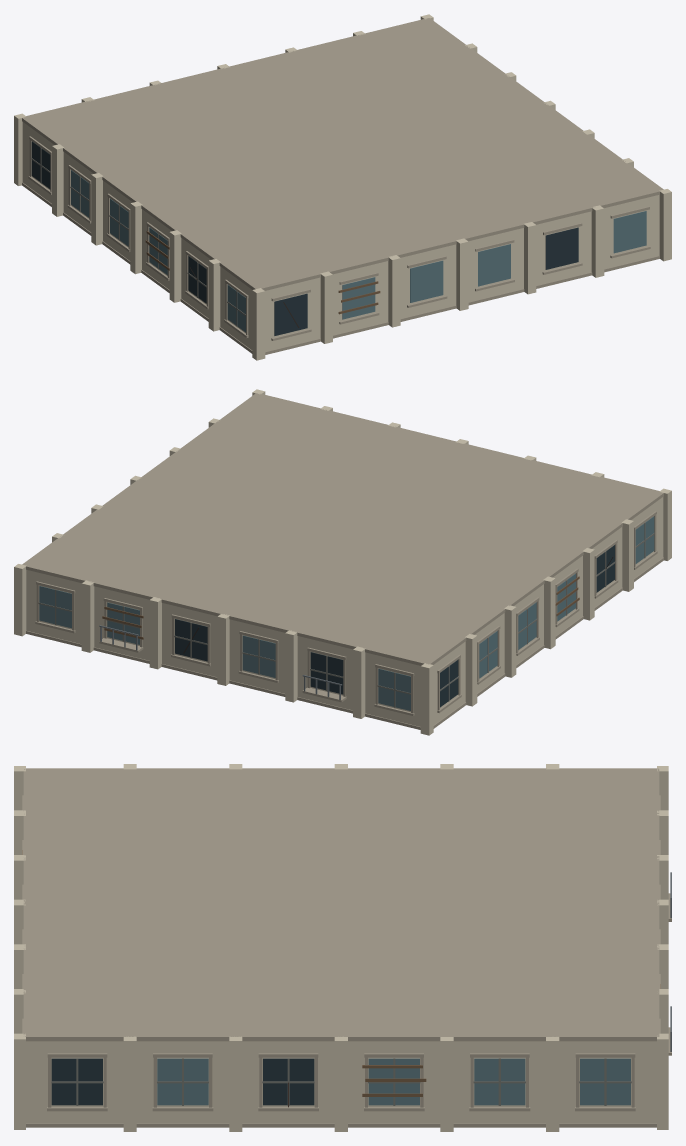
File: tw_stone_24_floor.glb
3 views of the same model, one above another, from view 1: azimuth 30°, elevation 25°; view 2: azimuth 150°, elevation 25°; view 3: azimuth 270°, elevation 25° (orthographic). The views are drawn at different scales.
Parts seen in each view (by area): view 1: tw_stone_24_floor; view 2: tw_stone_24_floor; view 3: tw_stone_24_floor.
Part boxes in pixels (x1,y1,x2,y2): tw_stone_24_floor: [14, 14, 671, 360]; tw_stone_24_floor: [14, 389, 671, 735]; tw_stone_24_floor: [14, 764, 671, 1131].
Bounding box in the file's own units: 24.99 × 3.8 × 24.92.
Materials: 3 (3 with a texture image).
